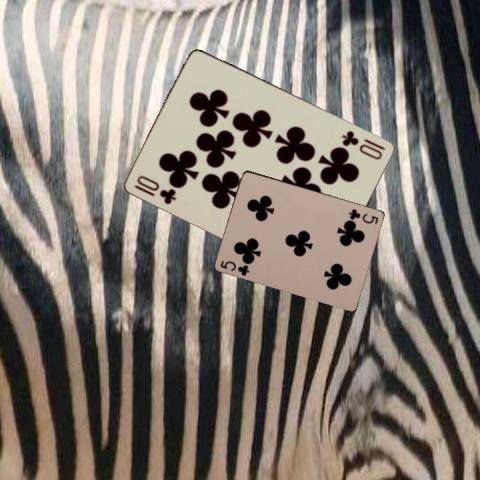10c: (340, 128, 388, 162), (131, 172, 178, 206)
5c: (217, 257, 251, 278), (346, 206, 380, 226)
